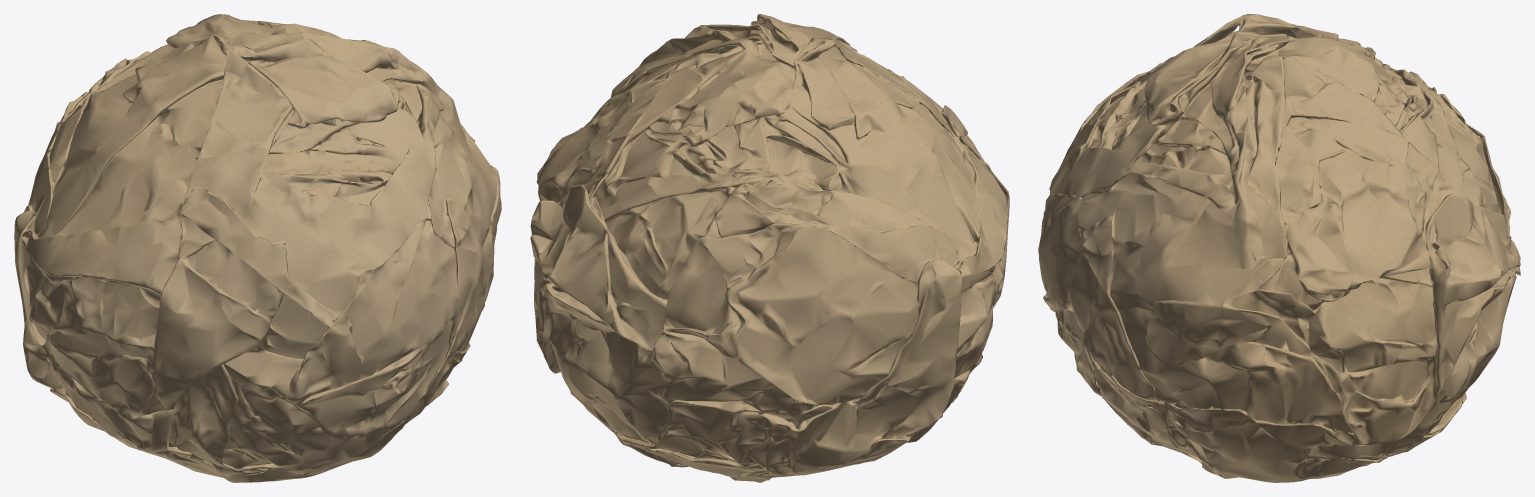
The model's file is crumpled_paper.glb.
The picture shows the model from 3 angles, left to right: view 1: azimuth 30°, elevation 25°; view 2: azimuth 150°, elevation 25°; view 3: azimuth 270°, elevation 25°; orthographic projection. The views are drawn at different scales.
Bounding box in the file's own units: 1.9 × 1.8 × 1.87.
1 material, 1 textured.
